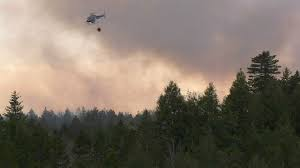smoke: (1, 4, 205, 108)
